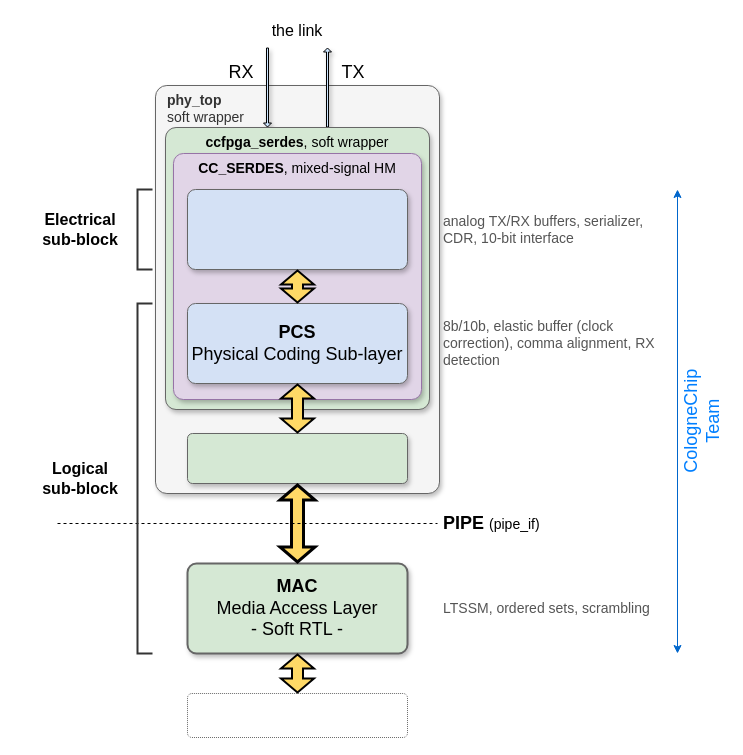
Some shapes in this 743 by 755 pixel diagram are drawn without their labels. The centre of each missing label's shape, as x and y in pixels:
"DLL , then TL" goes at [297,715].
"PIPE thin adaptation layer ccfpga_pipe_fsm" goes at [298,459].
"PMA Physical Media Attachment" goes at [298,230].
